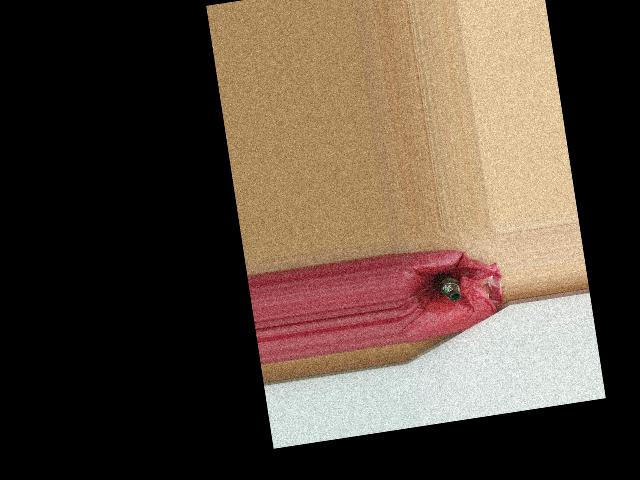beer: (434, 270, 462, 303)
